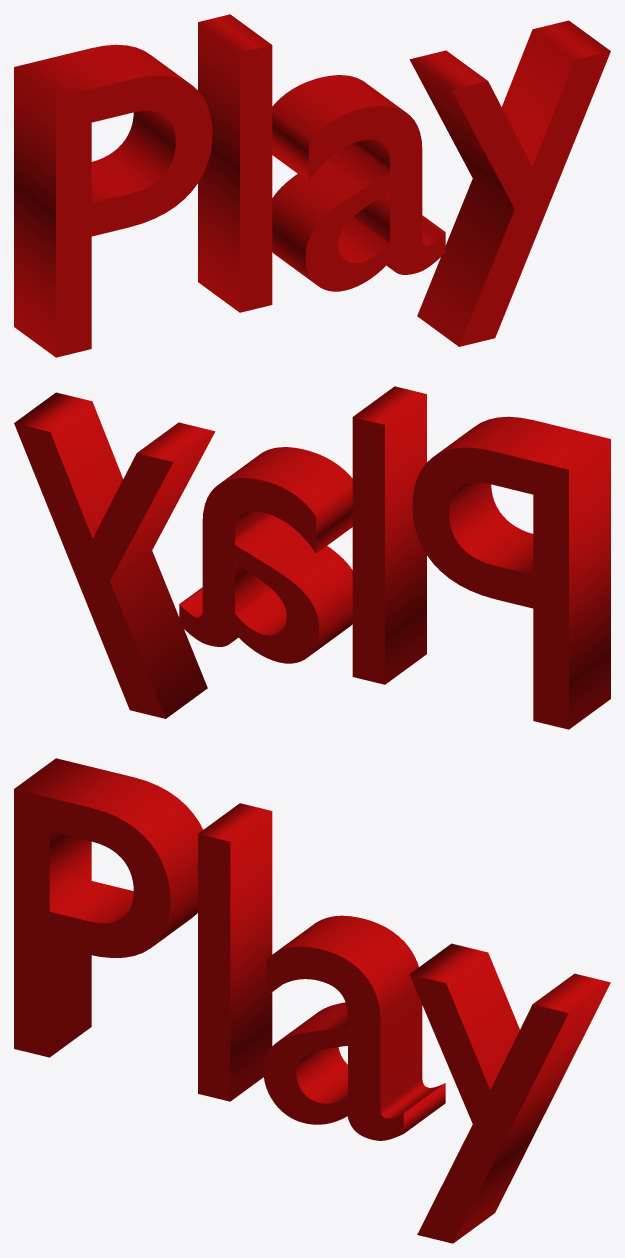
File: play2.fbx
3 renders of one model, top to bottom at view 1: azimuth 30°, elevation 25°; view 2: azimuth 150°, elevation 25°; view 3: azimuth 330°, elevation 25°, orthographic.
Parts seen in each view (by area): view 1: Text; view 2: Text; view 3: Text.
Part boxes in pixels (<box>): Text: <box>14,14,610,357</box>; Text: <box>14,386,610,729</box>; Text: <box>14,758,610,1243</box>.
Size of the model in its own units: 152 by 91.2 by 20.
